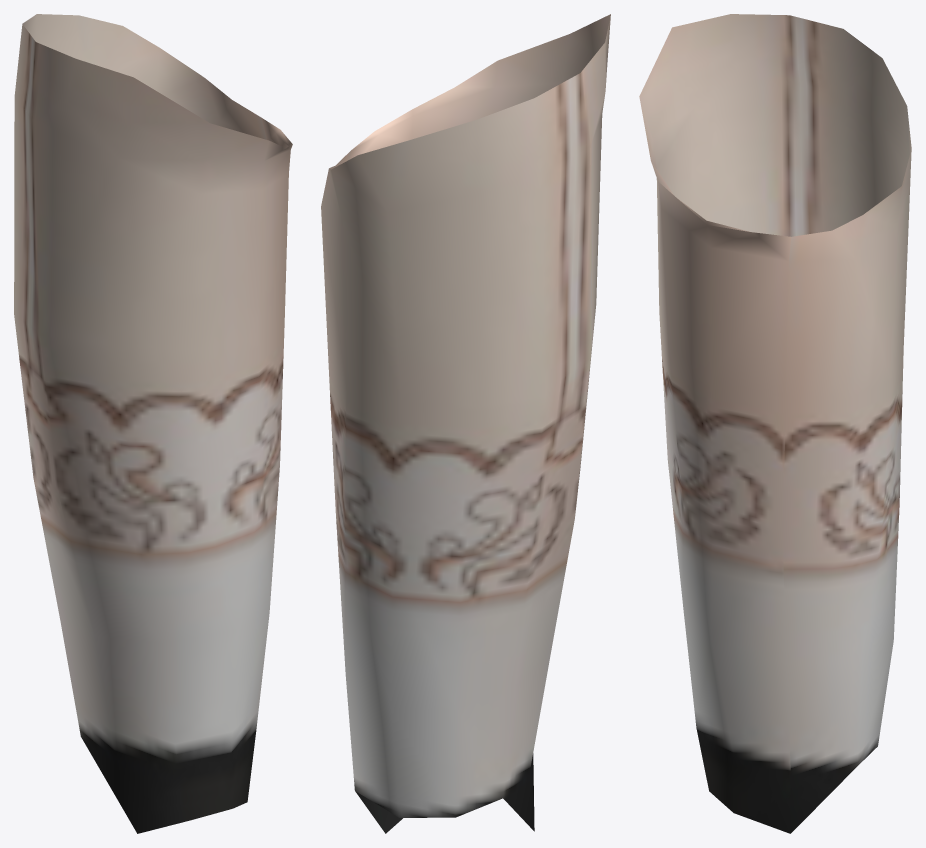
The model's file is Lily_Pierna_2.obj.
3 renders of one model, left to right at view 1: azimuth 30°, elevation 25°; view 2: azimuth 150°, elevation 25°; view 3: azimuth 270°, elevation 25°, orthographic. The views are drawn at different scales.
Parts seen in each view (by area): view 1: 2_Mesh.014; view 2: 2_Mesh.014; view 3: 2_Mesh.014.
Boxes of the visible parts, x1,y1,x2,y2 form: 2_Mesh.014: (14,14,292,833); 2_Mesh.014: (321,14,610,833); 2_Mesh.014: (639,14,911,833).
Bounding box in the file's own units: 0.1233 × 0.3998 × 0.1338.
